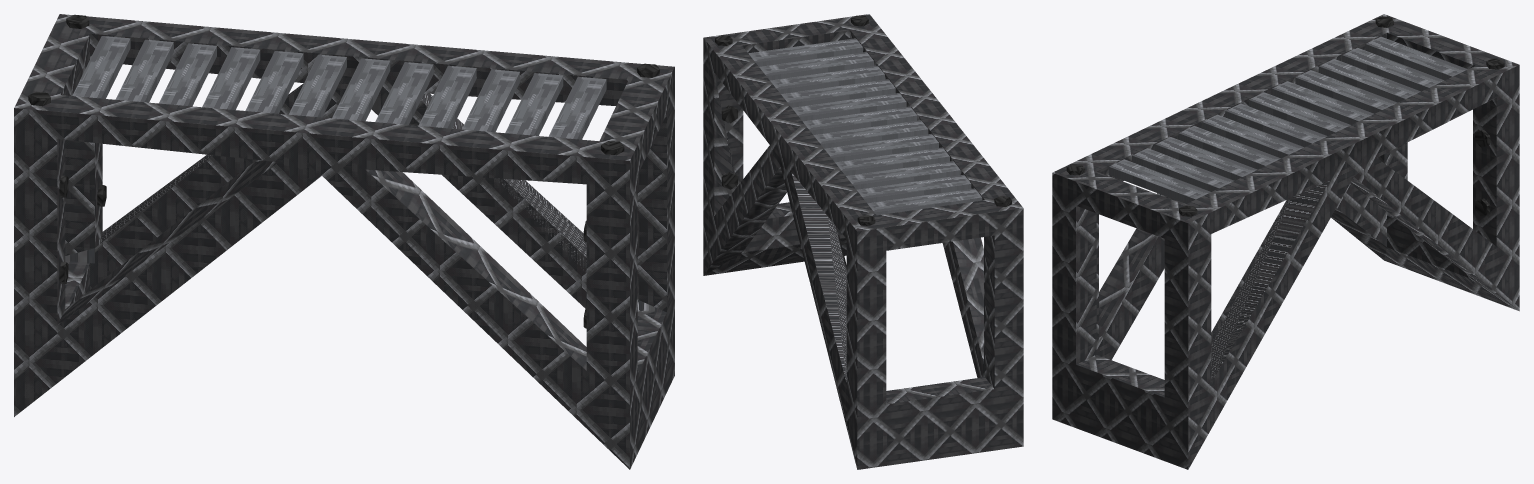
Rendered from SmallBridge.fbx.
The picture shows the model from 3 angles, left to right: view 1: azimuth 30°, elevation 25°; view 2: azimuth 150°, elevation 25°; view 3: azimuth 270°, elevation 25°; orthographic projection. The views are drawn at different scales.
Parts seen in each view (by area): view 1: SmallBridge, steps.010; view 2: SmallBridge, steps.010; view 3: SmallBridge, steps.010.
Boxes of the visible parts, <box> form: SmallBridge: <box>14,14,674,469</box>; steps.010: <box>72,36,606,139</box>; SmallBridge: <box>703,14,1023,469</box>; steps.010: <box>748,38,982,215</box>; SmallBridge: <box>1052,14,1519,469</box>; steps.010: <box>1108,36,1467,203</box>.
Bounding box in the file's own units: 1367 × 762 × 1290.
